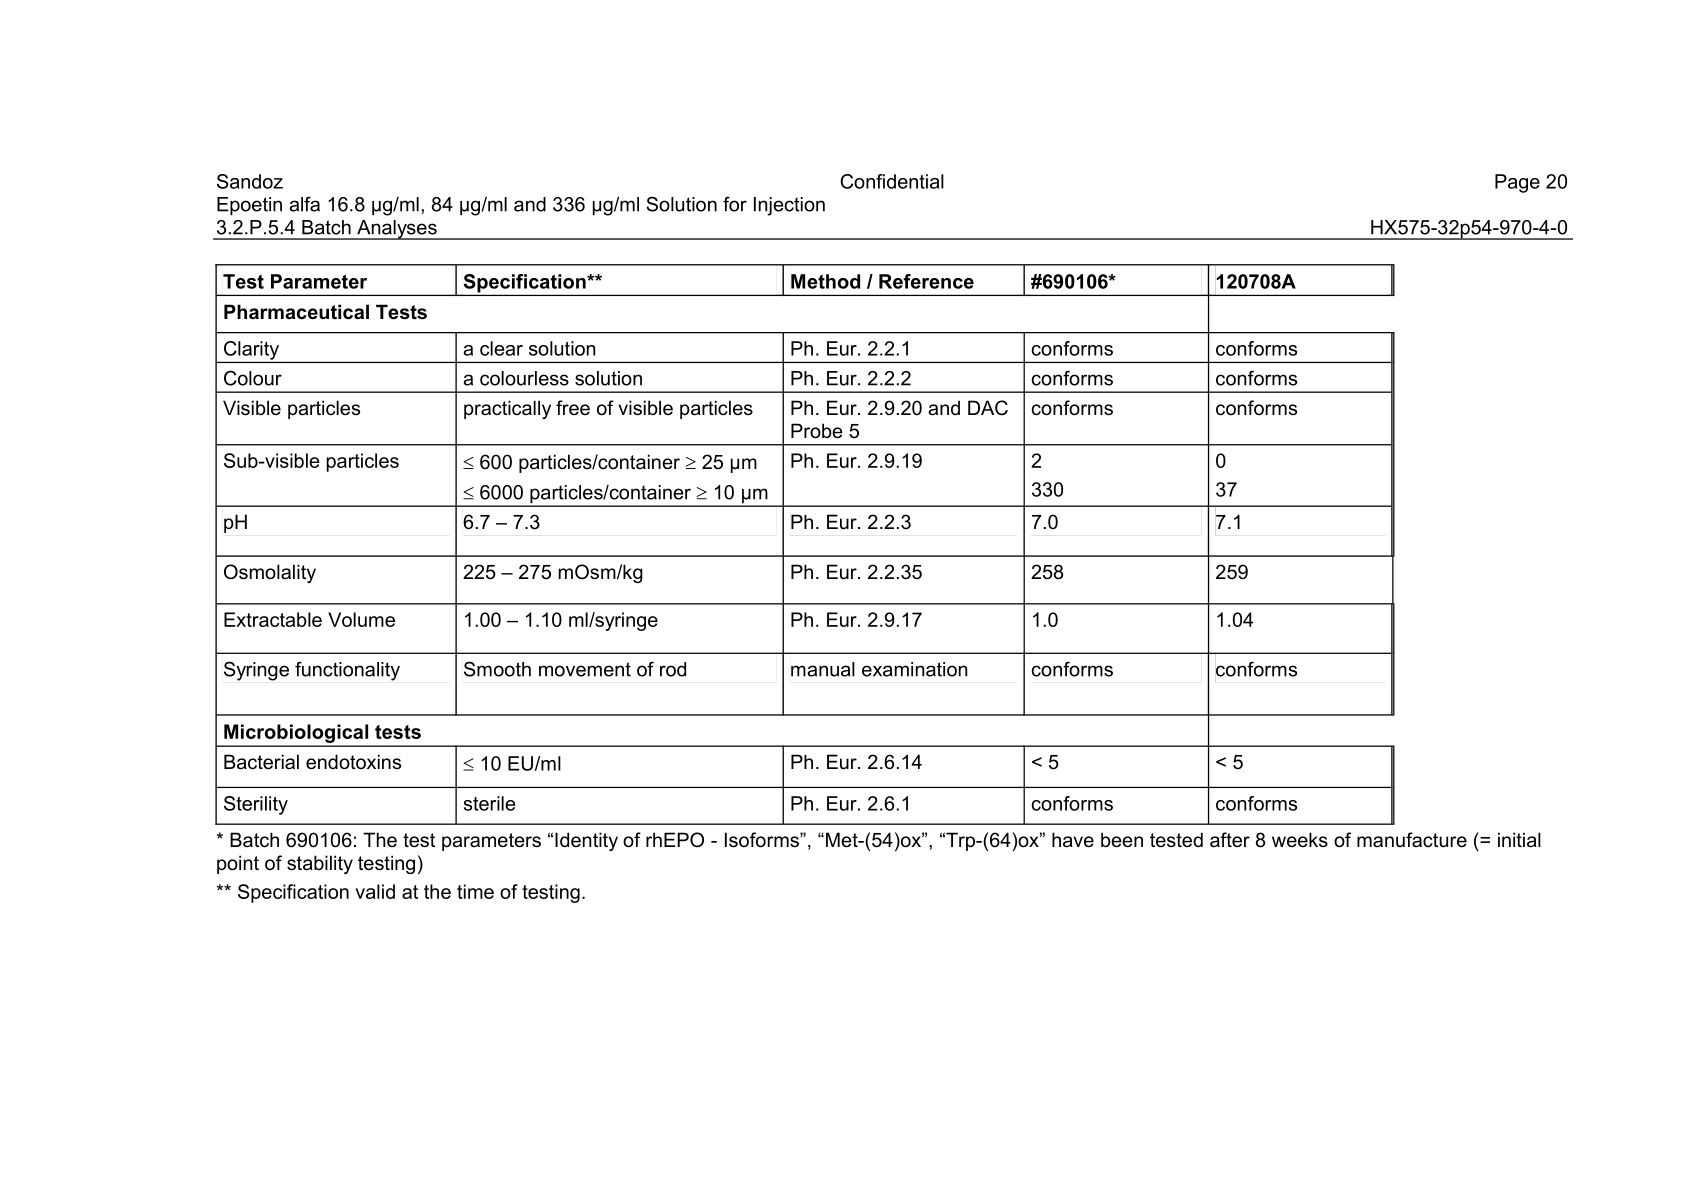merged_cells: (214, 264, 1395, 826)
